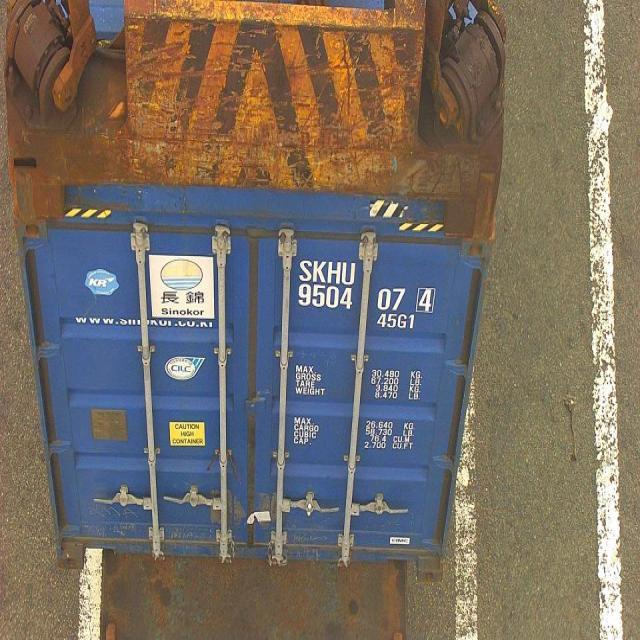ISO: (376, 312, 417, 332)
container_number: (299, 260, 440, 314)
